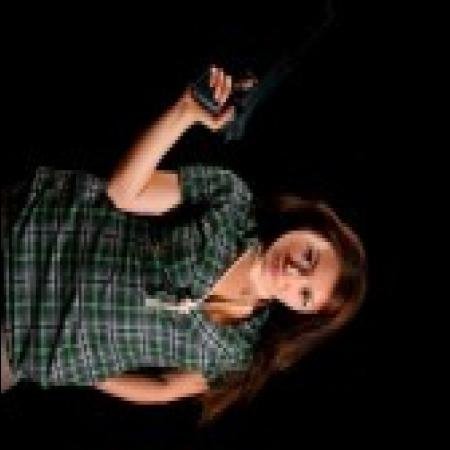Pistol: (182, 68, 284, 159)
